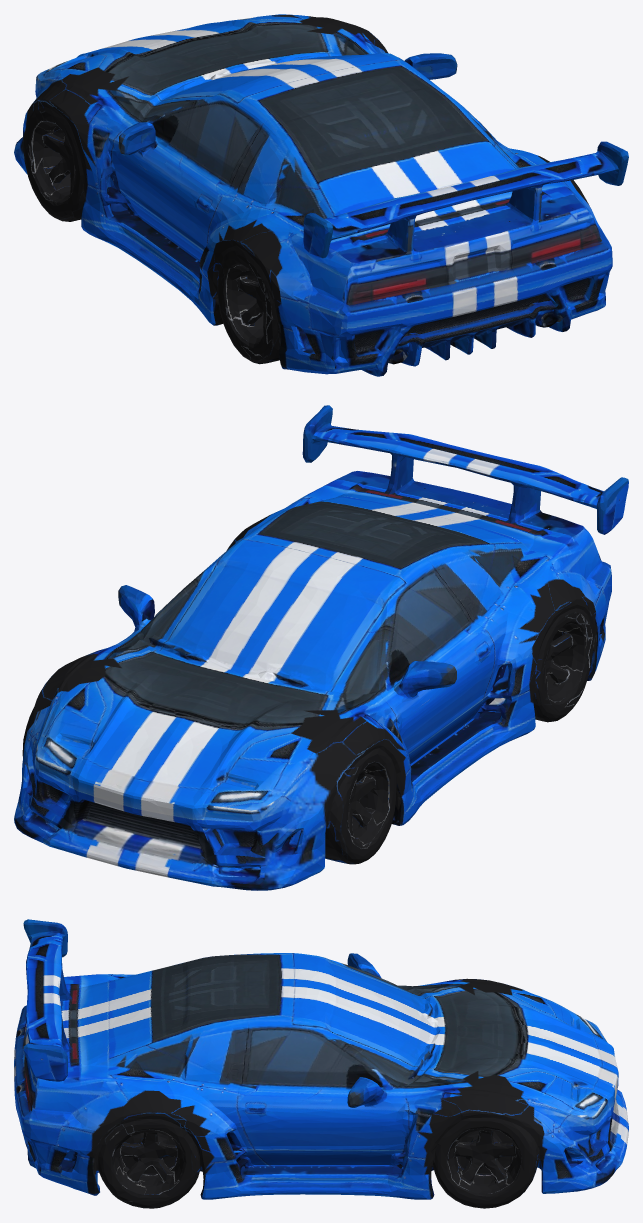
Rendered from jdm_coupe.glb.
3 renders of one model, top to bottom at view 1: azimuth 30°, elevation 25°; view 2: azimuth 150°, elevation 25°; view 3: azimuth 270°, elevation 25°, orthographic. The views are drawn at different scales.
Visible parts, largest first — view 1: jdm_coupe_tex; view 2: jdm_coupe_tex; view 3: jdm_coupe_tex.
Part boxes in pixels (x1,y1,x2,y2): jdm_coupe_tex: (14, 14, 628, 376); jdm_coupe_tex: (14, 405, 628, 890); jdm_coupe_tex: (14, 919, 628, 1208).
Size of the model in its own units: 2.45 by 1.3 by 4.5.
1 material, 1 textured.
